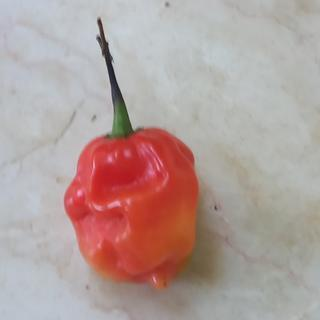Grade-B: (52, 127, 206, 297)
